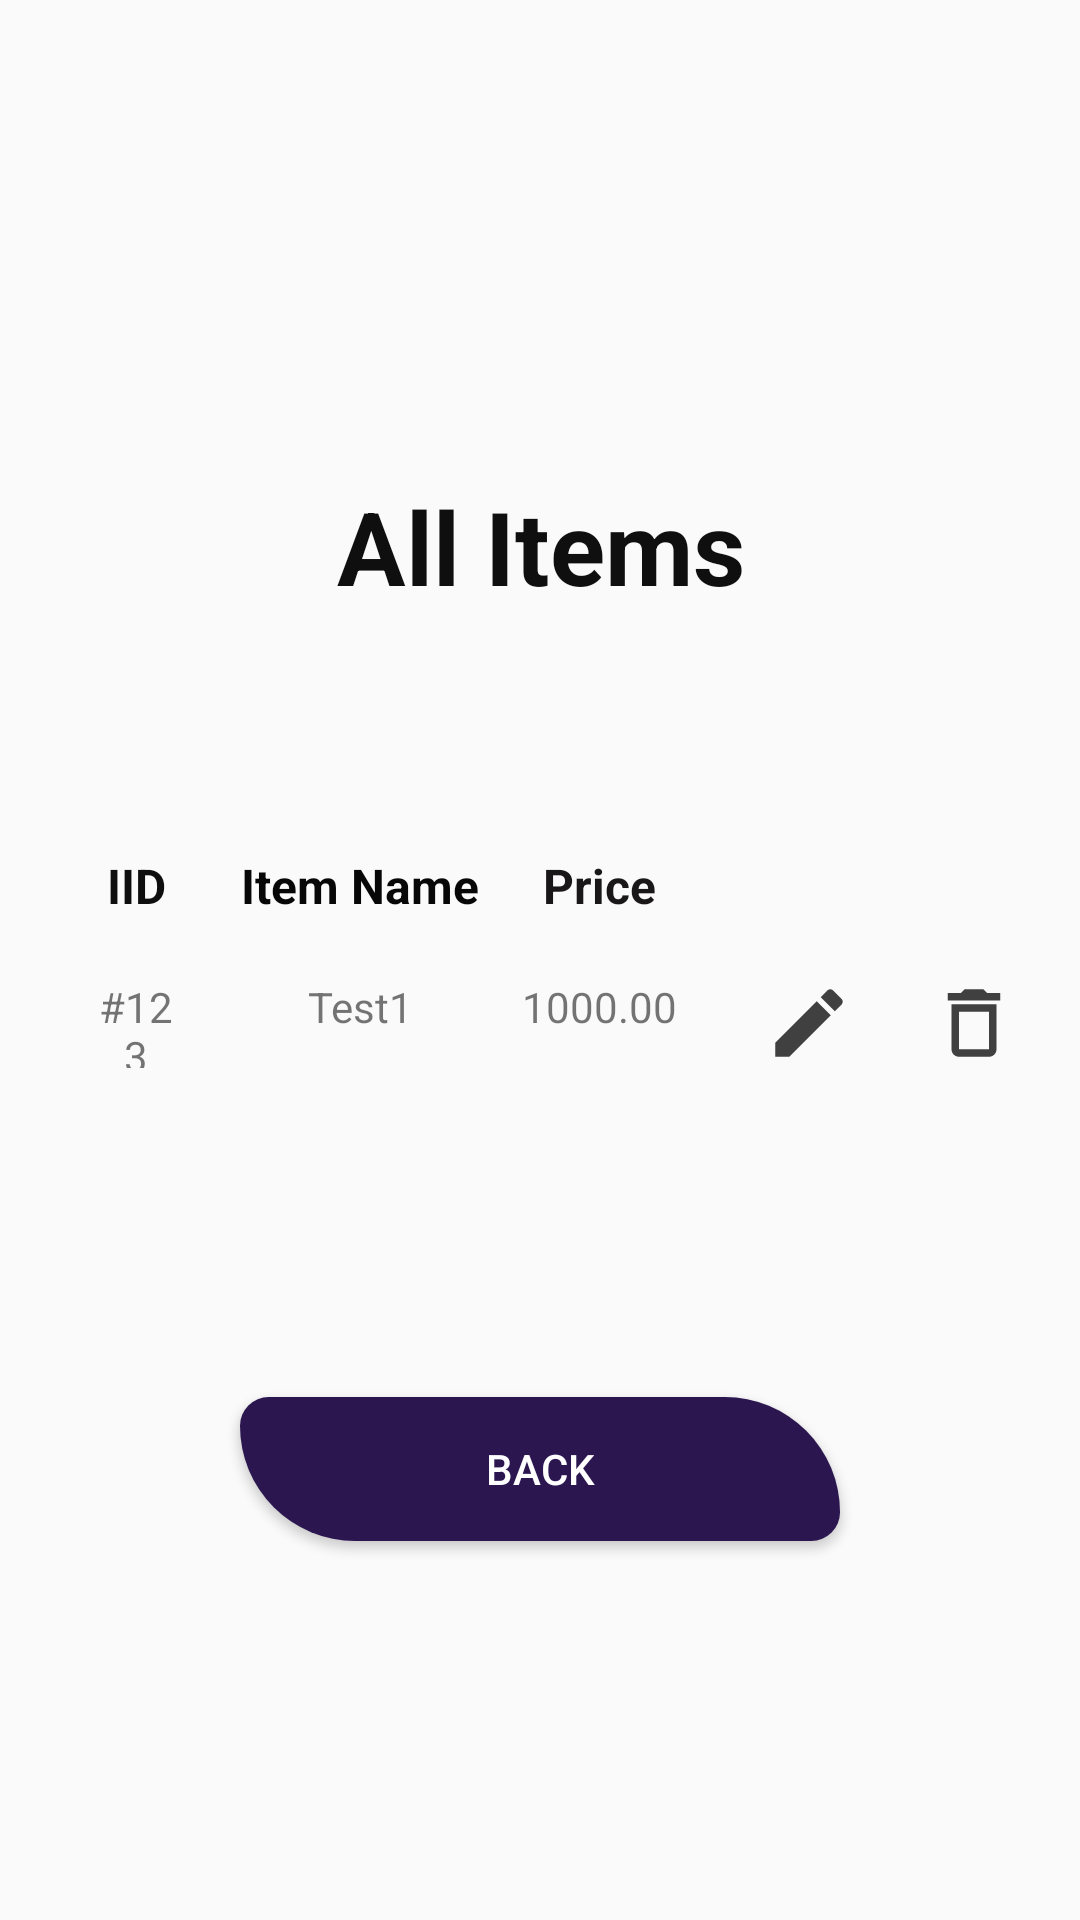

Locate icon controls on the screen. Image size 1080px x 1920px, boxes as {"x1": x1, "y1": y1, "x2": x2, "y2": y2}.
delete: {"x1": 947, "y1": 989, "x2": 1001, "y2": 1057}
edit: {"x1": 775, "y1": 989, "x2": 843, "y2": 1057}
